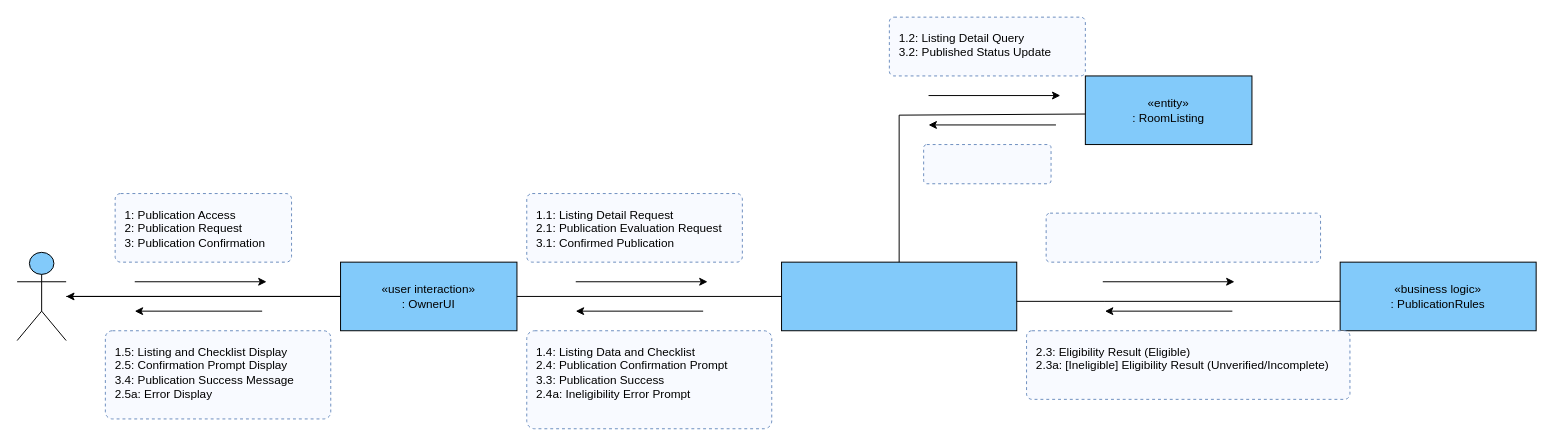
The diagram is 1553 pixels wide and 446 high, and some of its shapes have lost their labels. Here are the shapes that lost their labels. From the top down, the centre of each, then its label:
pixel 987 164: 1.3: Listing Data
pixel 1183 237: 2.2: Eligibility Check (Listing & Owner Data)
pixel 41 296: Owner
pixel 899 296: «coordinator» : PublishListingCoordinator
